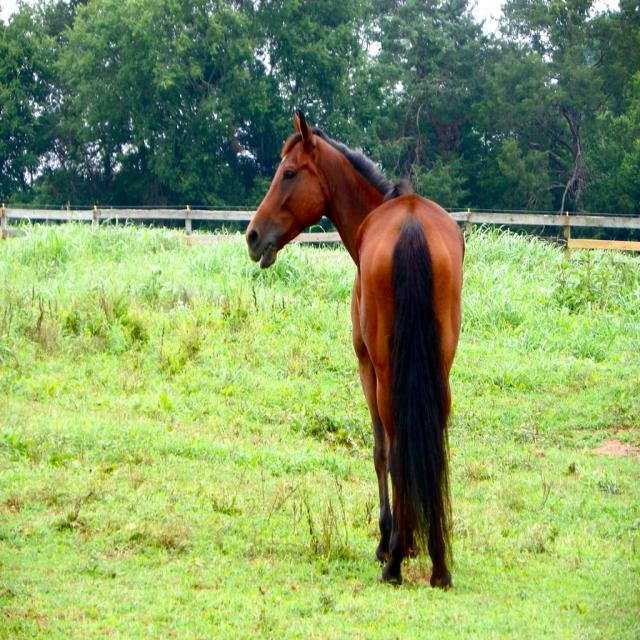Horse: (245, 108, 465, 592)
